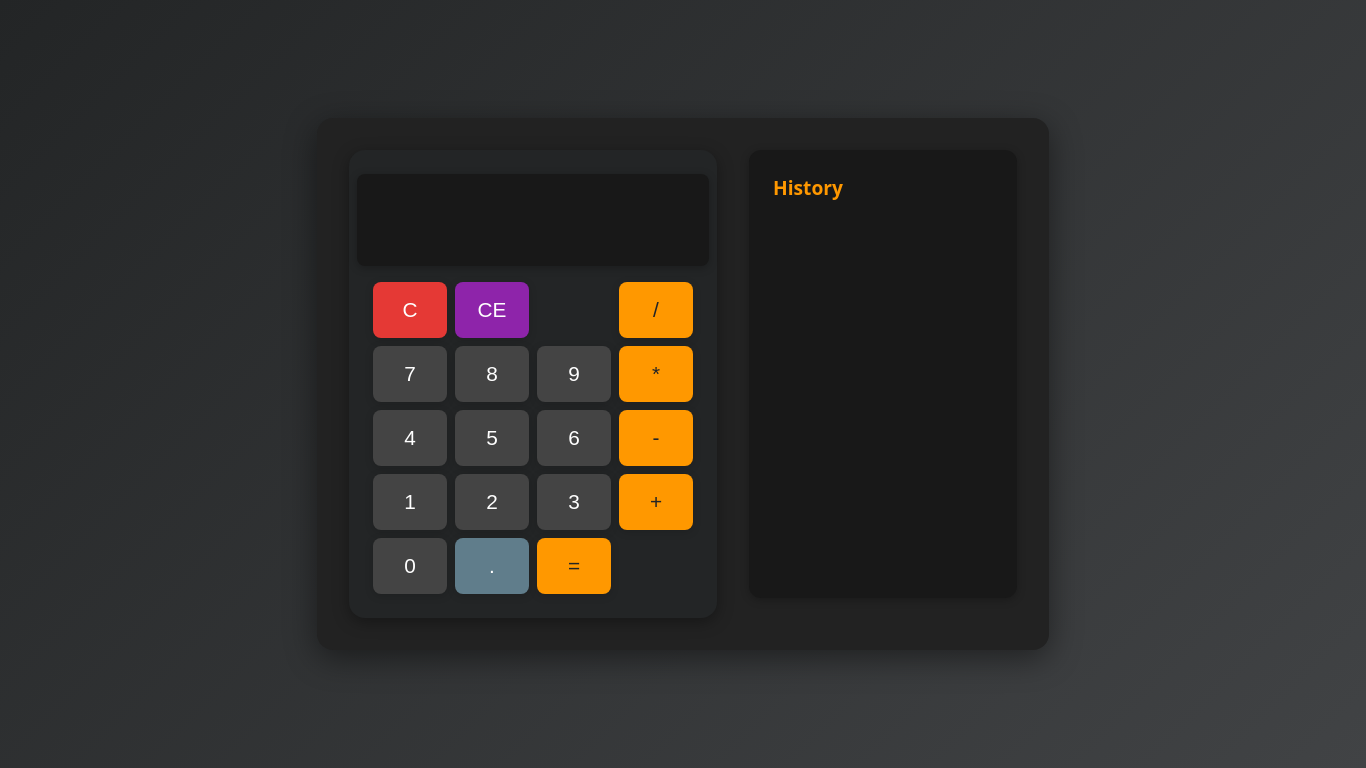
App Component › updates history after calculation
What coordinates should you click on to do the following:
click the button "2"
I would click on:
 (492, 502)
Its box is [455, 474, 529, 530].
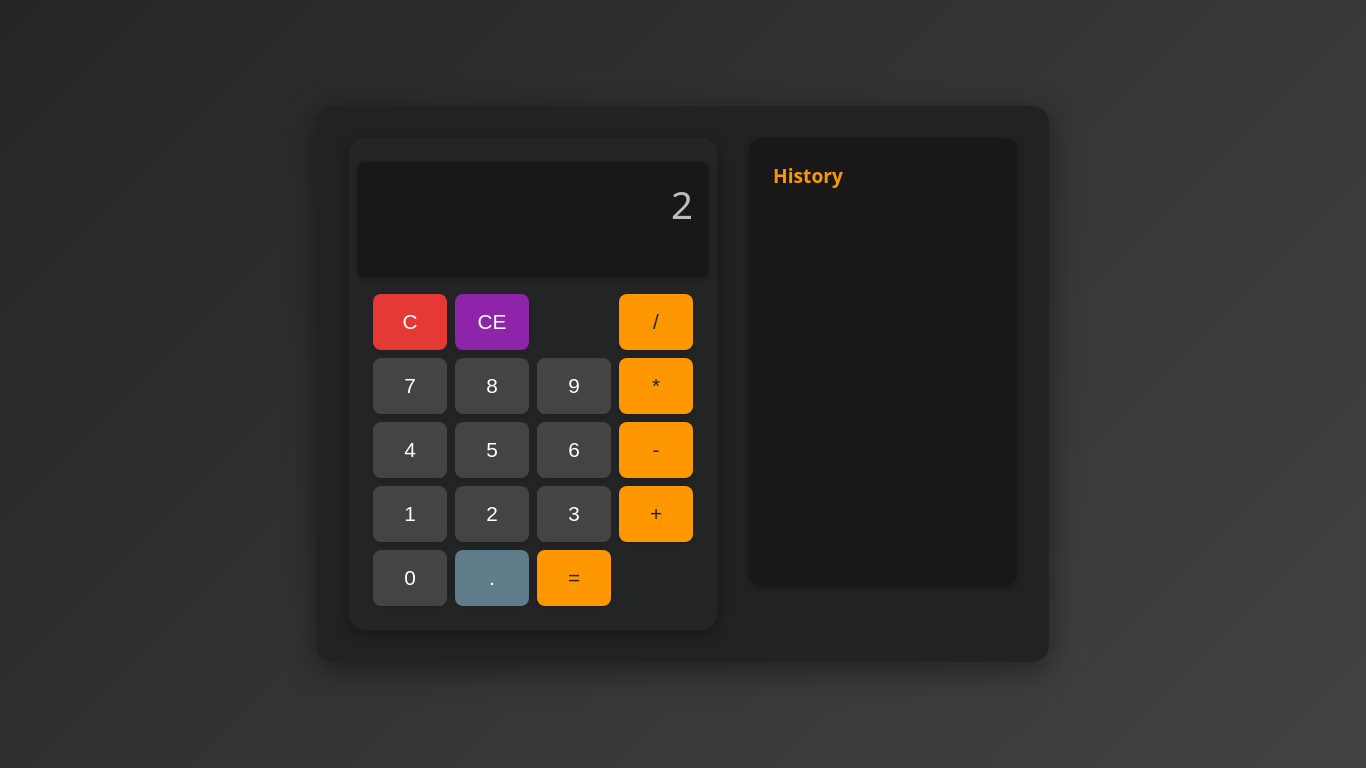
What coordinates should you click on to do the following:
click the button "+"
I would click on:
 (656, 514)
Its box is [619, 486, 693, 542].
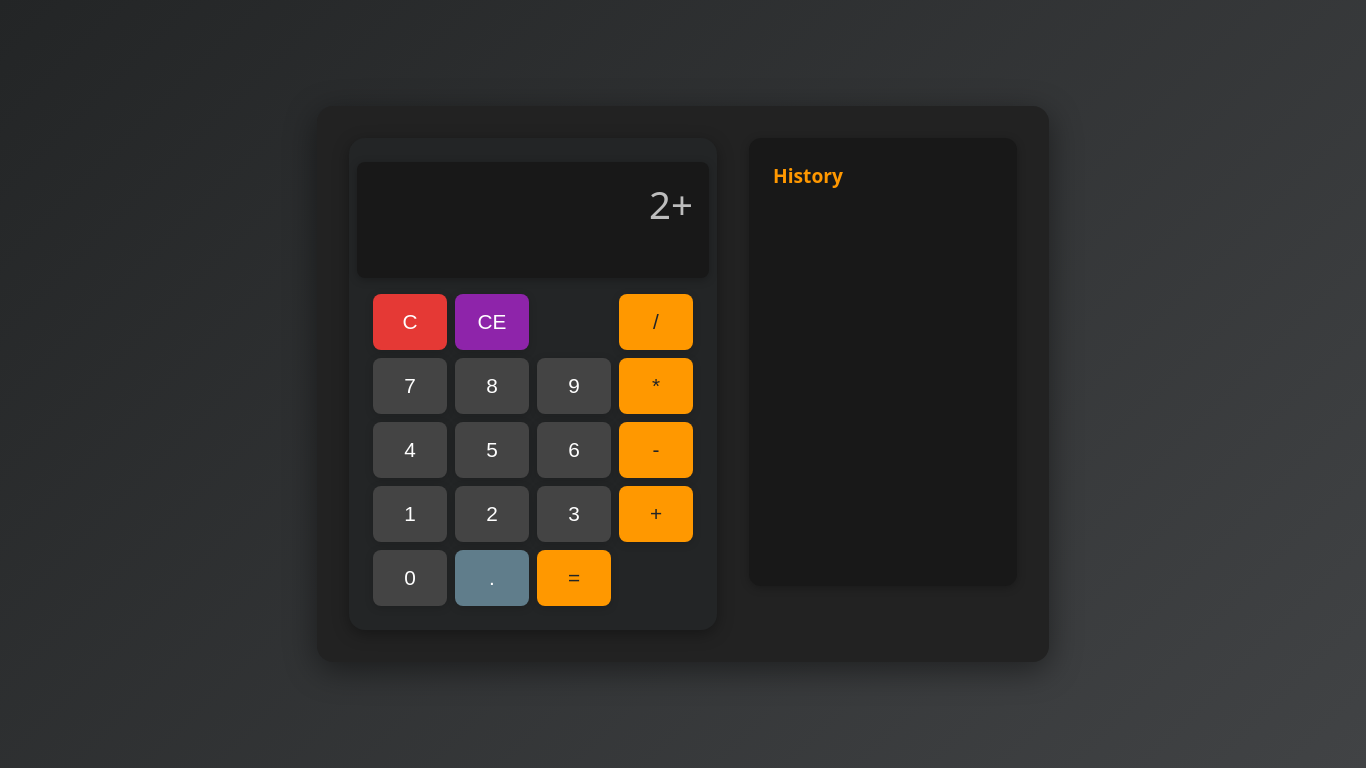
What coordinates should you click on to do the following:
click the button "3"
I would click on:
 (574, 514)
Its box is [537, 486, 611, 542].
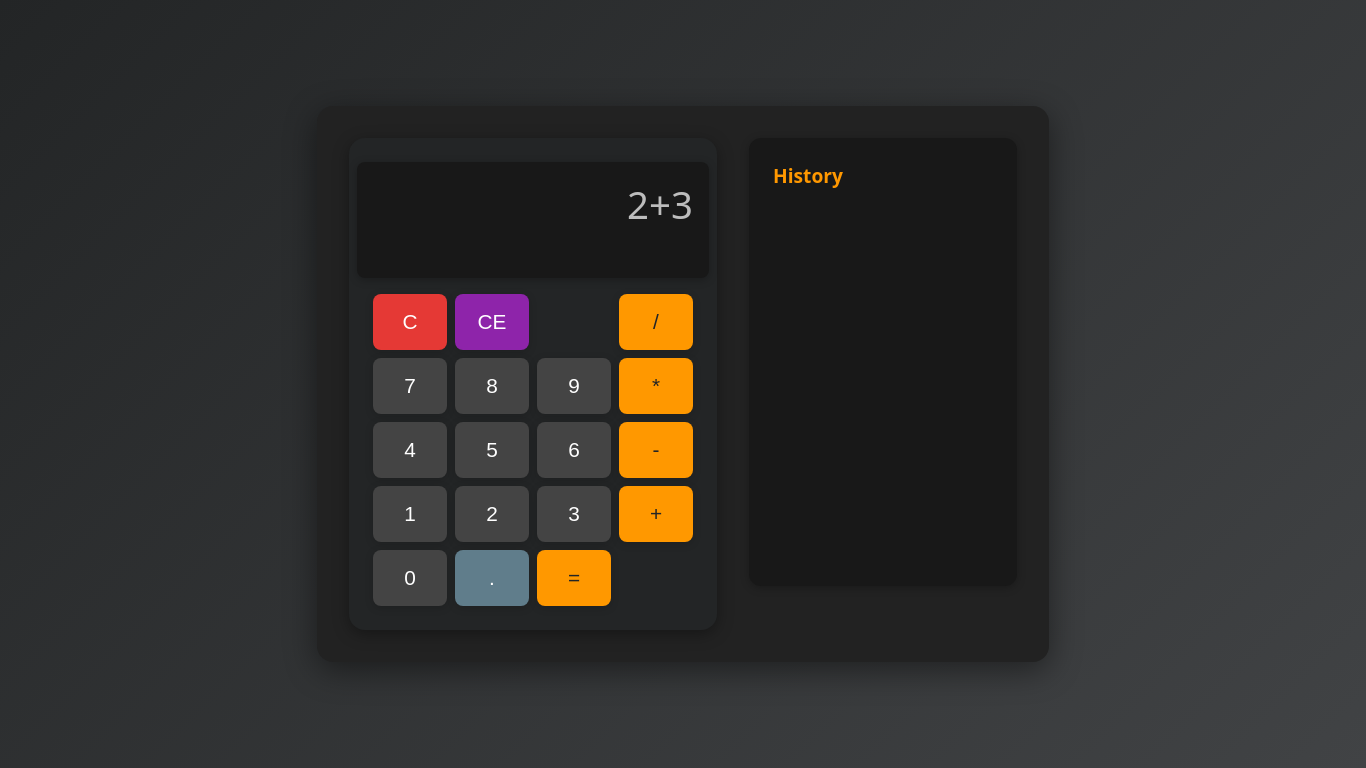
What coordinates should you click on to do the following:
click the button "="
I would click on:
 (574, 578)
Its box is [537, 550, 611, 606].
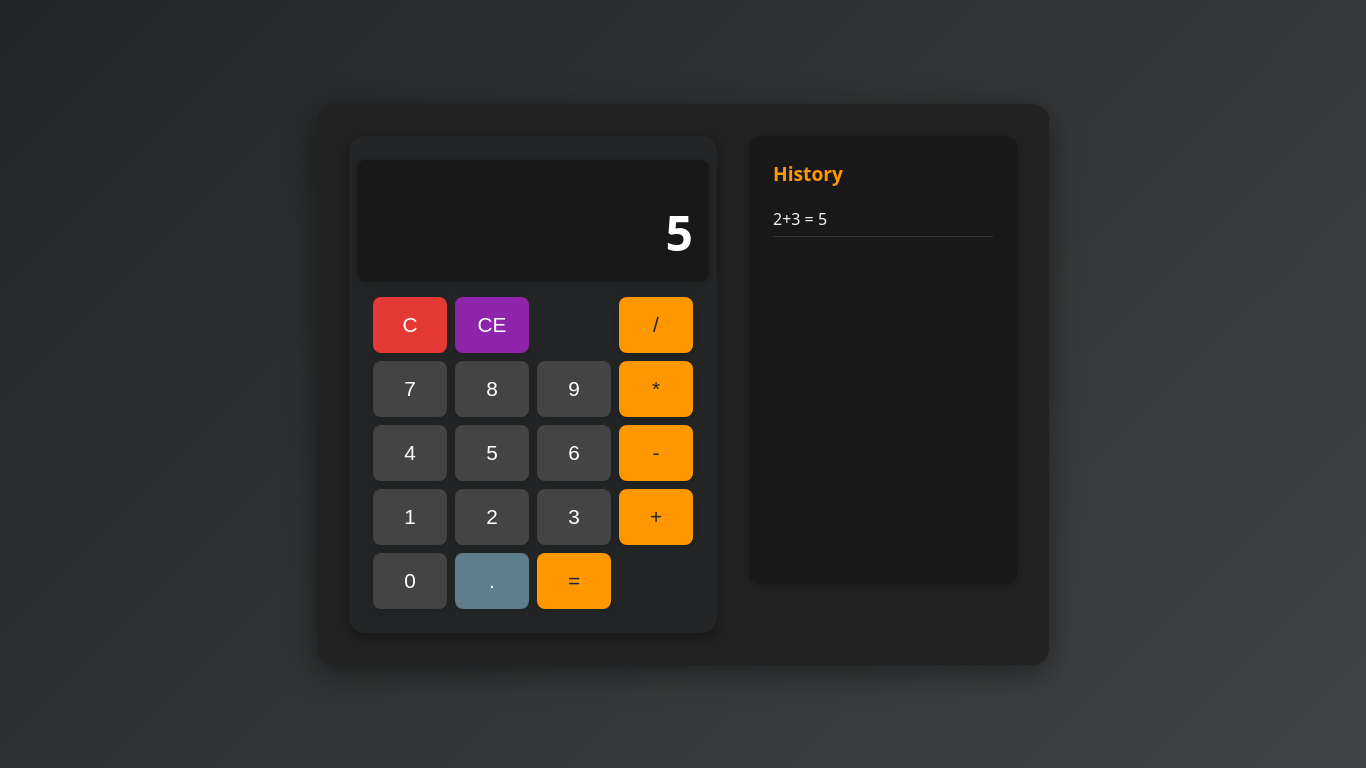
Expected: the list item "2+3 = 5" is shown, [773, 202, 993, 237]
